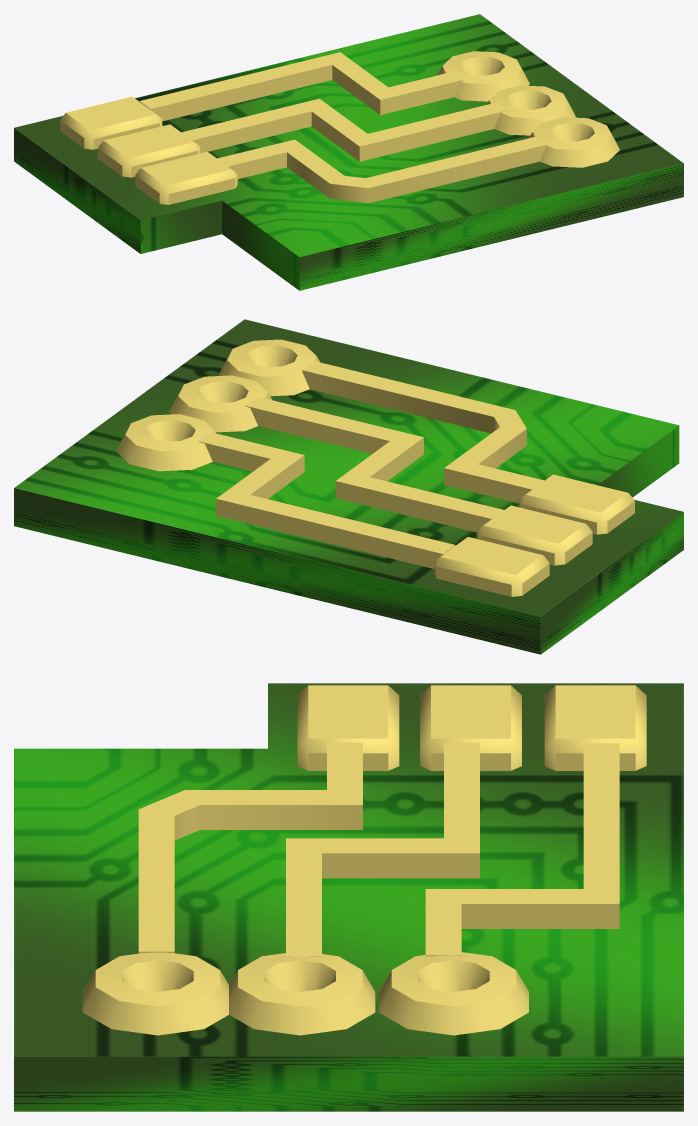
File: static.fbx
The picture shows the model from 3 angles, top to bottom: view 1: azimuth 30°, elevation 25°; view 2: azimuth 150°, elevation 25°; view 3: azimuth 270°, elevation 25°; orthographic projection. The views are drawn at different scales.
Visible parts, largest first — view 1: Cube_4, Sweep, Cube_5, Cube, Tube, Cube_3, Cube_2, Tube_3, Tube_2; view 2: Cube_4, Sweep, Cube_3, Tube_3, Cube_2, Cube, Tube_2, Tube, Cube_5; view 3: Cube_4, Sweep, Tube, Tube_3, Tube_2, Cube_3, Cube, Cube_2.
Part boxes in pixels (x1,y1,x2,y2): Cube_4: [14, 14, 683, 290]; Sweep: [139, 52, 545, 203]; Cube_5: [140, 200, 299, 290]; Cube: [135, 151, 237, 204]; Tube: [529, 117, 619, 167]; Cube_3: [60, 96, 162, 149]; Cube_2: [98, 124, 200, 177]; Tube_3: [437, 51, 529, 101]; Tube_2: [486, 85, 576, 135]; Cube_4: [14, 319, 683, 654]; Sweep: [198, 361, 544, 568]; Cube_3: [434, 537, 549, 596]; Tube_3: [116, 414, 215, 471]; Cube_2: [476, 505, 592, 565]; Cube: [519, 474, 634, 534]; Tube_2: [169, 375, 271, 432]; Tube: [218, 339, 319, 396]; Cube_5: [598, 425, 679, 497]; Cube_4: [14, 683, 683, 1111]; Sweep: [138, 742, 619, 956]; Tube: [82, 952, 228, 1035]; Tube_3: [379, 952, 528, 1035]; Tube_2: [229, 953, 375, 1035]; Cube_3: [544, 685, 646, 770]; Cube: [297, 685, 399, 770]; Cube_2: [420, 685, 521, 770].
Bounding box in the file's own units: 96.01 × 11.08 × 72.81.
Materials: 2 (2 with a texture image).
